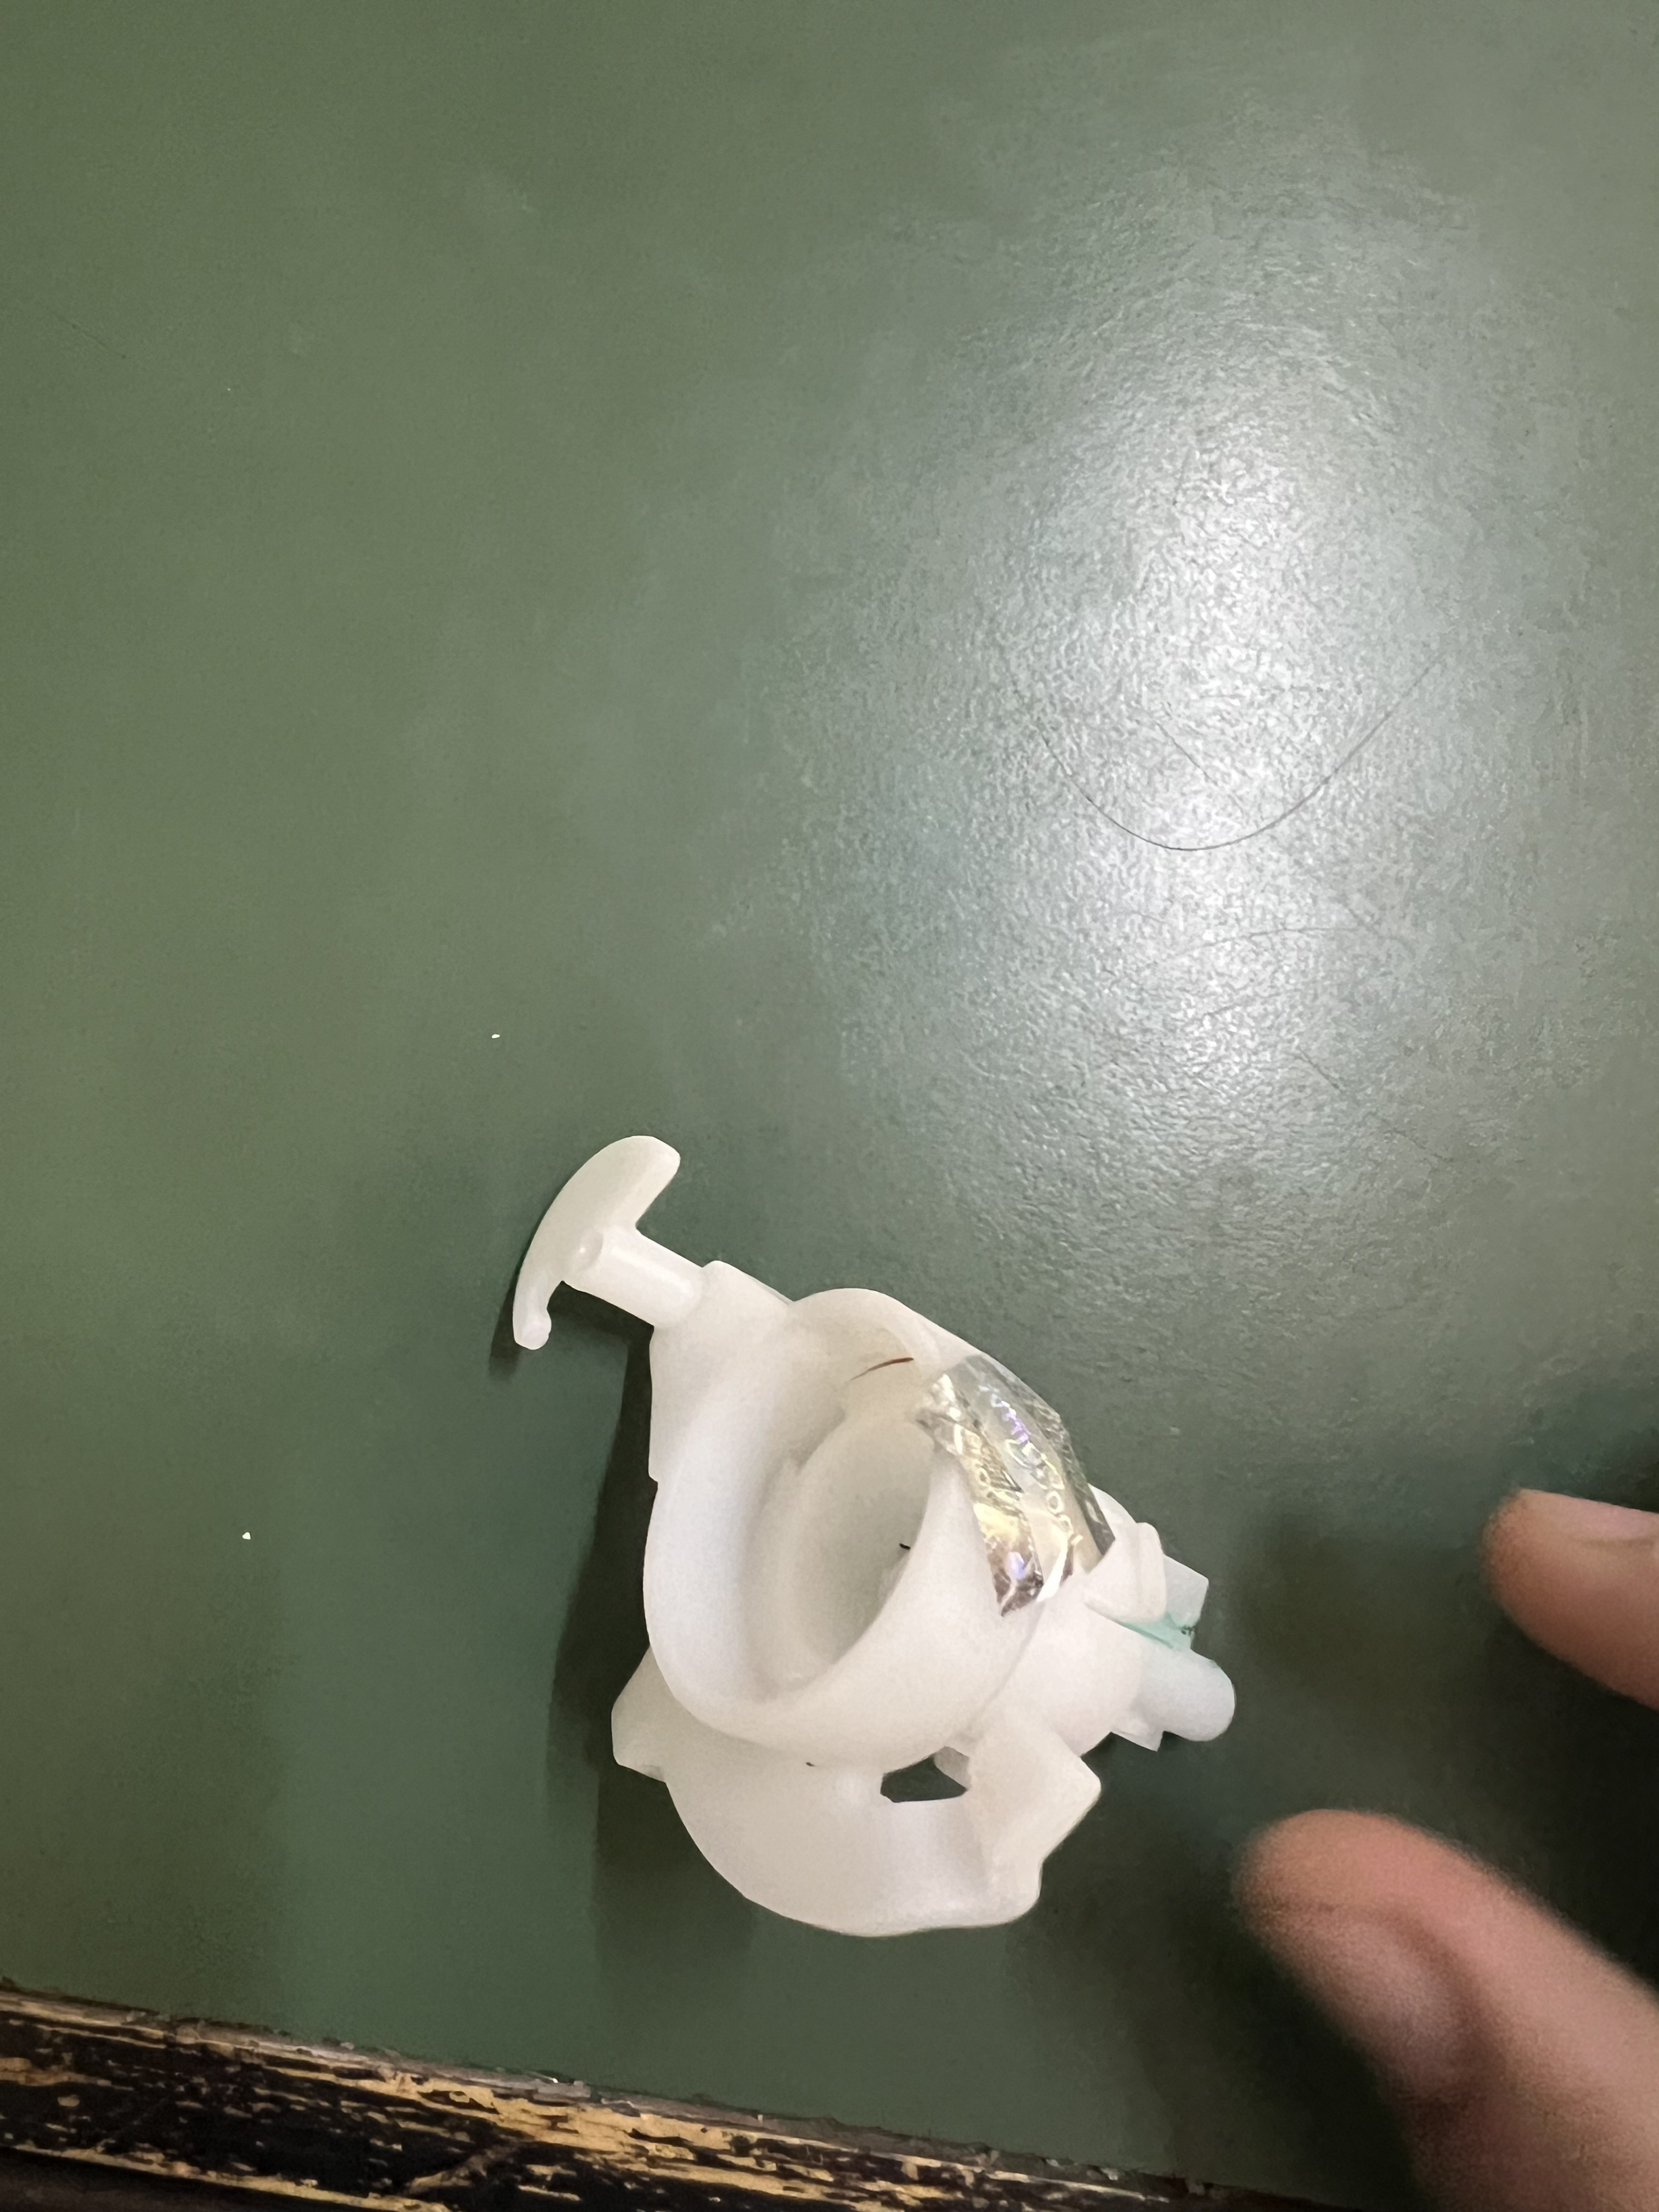drain_lever: (441, 1148, 1241, 1965)
